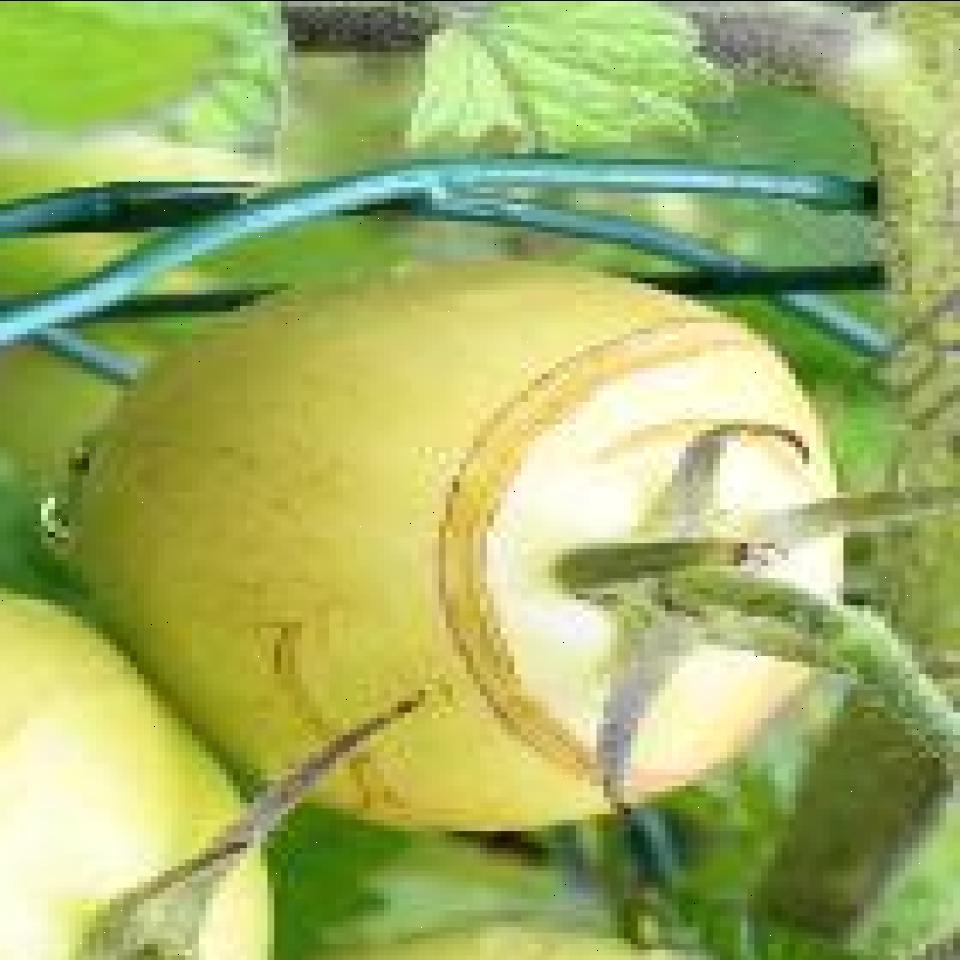Cracking: (428, 296, 810, 810)
